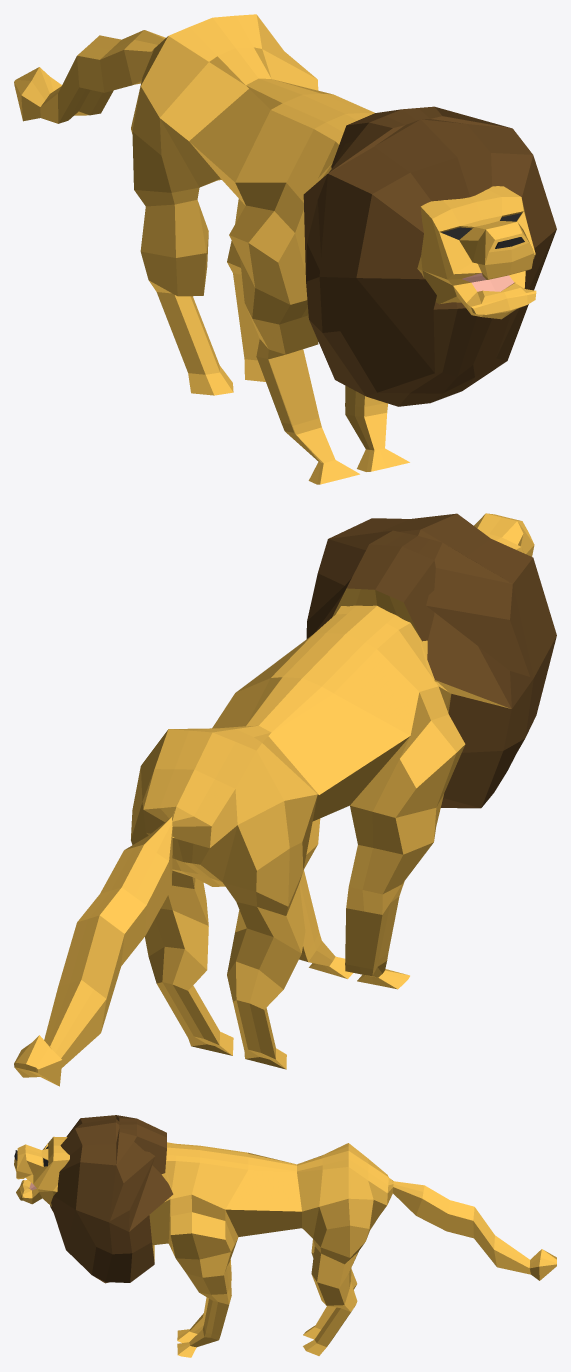
File: Løve.fbx
3 views of the same model, one above another, from view 1: azimuth 30°, elevation 25°; view 2: azimuth 150°, elevation 25°; view 3: azimuth 270°, elevation 25° (orthographic). The views are drawn at different scales.
Parts seen in each view (by area): view 1: Cube; view 2: Cube; view 3: Cube.
Boxes of the visible parts, x1,y1,x2,y2 form: Cube: [14, 14, 556, 484]; Cube: [14, 513, 556, 1086]; Cube: [14, 1115, 556, 1357].
Size of the model in its own units: 286 by 511 by 1124.
